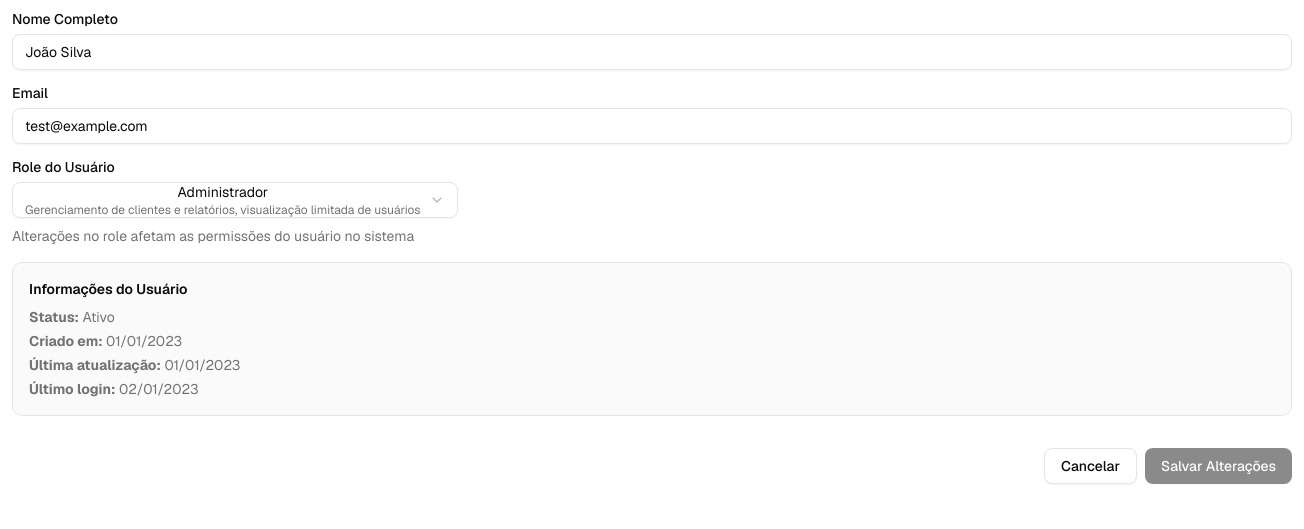
Test: UserEditForm › Form Validation › should show validation error for empty name
Replace the text in the field labelled "Nome Completo" with "a": (652, 52) [12,34,1292,70]
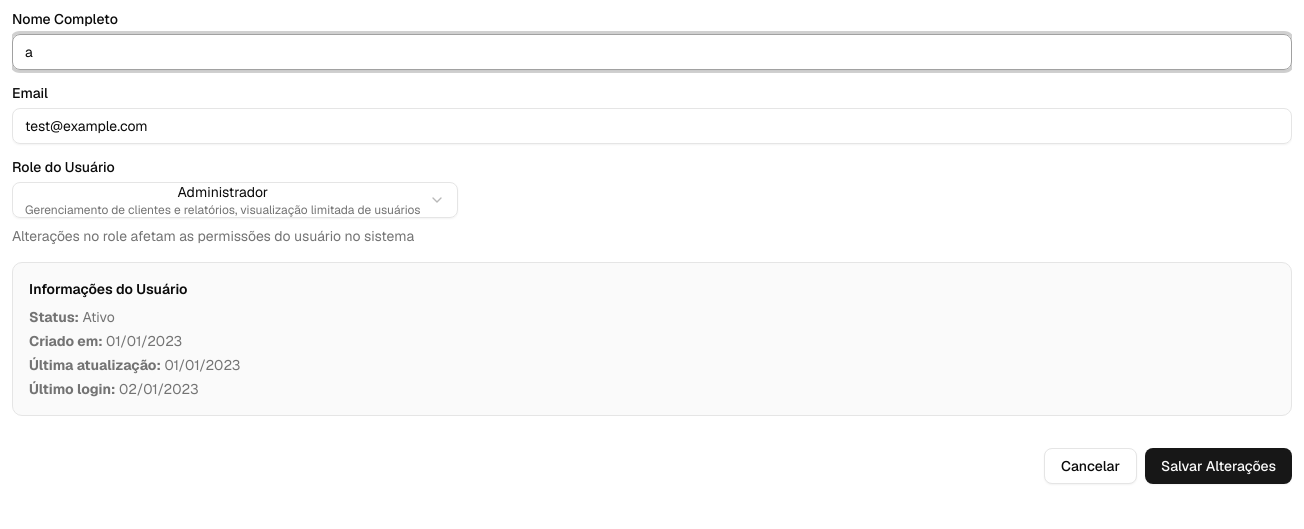
Press Tab
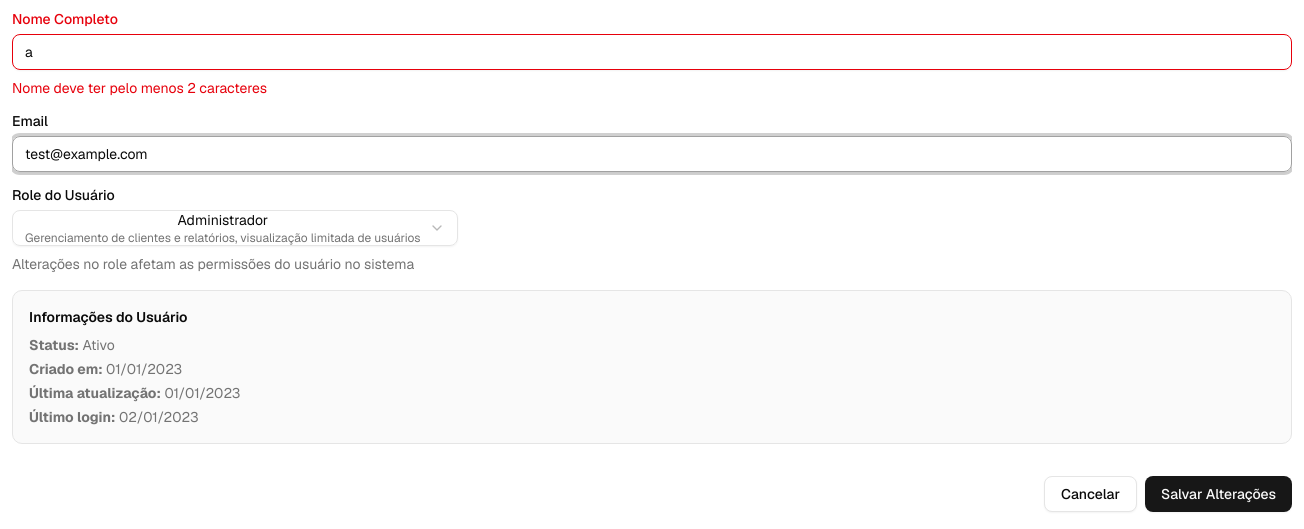
expect the text "Nome deve ter pelo menos 2 caracteres" is shown: met, box [12,79,267,97]
